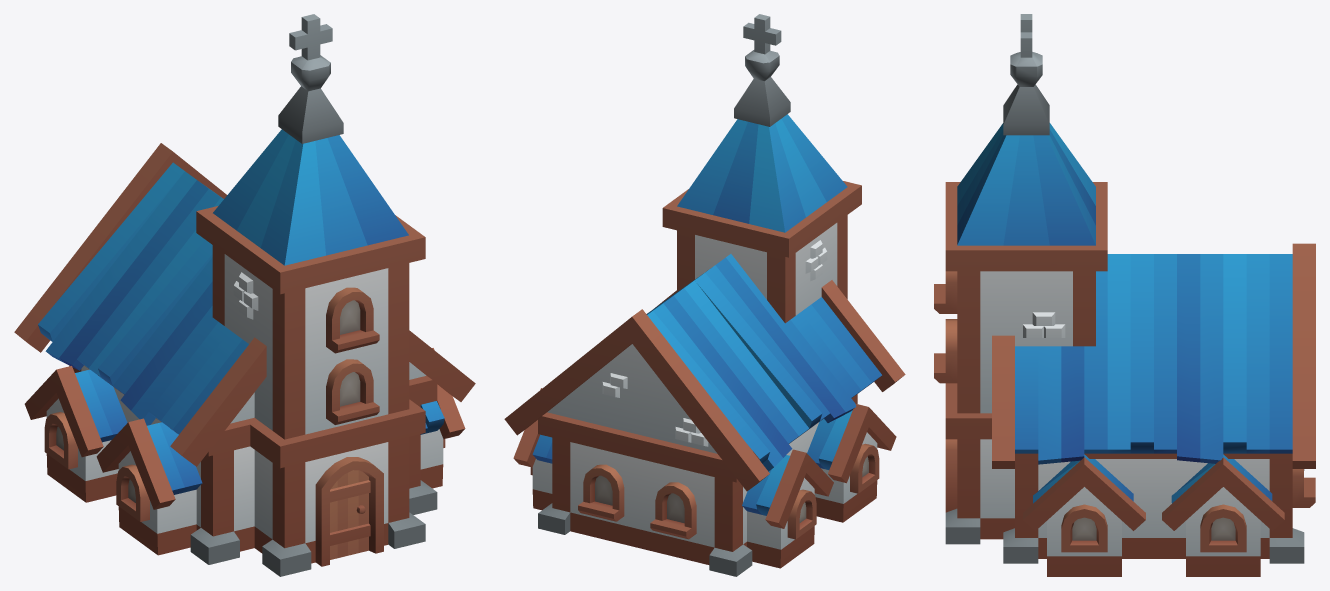
The model's file is church.glb.
The picture shows the model from 3 angles, left to right: view 1: azimuth 30°, elevation 25°; view 2: azimuth 150°, elevation 25°; view 3: azimuth 270°, elevation 25°; orthographic projection. The views are drawn at different scales.
Visible parts, largest first — view 1: building_church_blue; view 2: building_church_blue; view 3: building_church_blue.
Part boxes in pixels (<box>): building_church_blue: <box>14,14,475,576</box>; building_church_blue: <box>504,14,905,576</box>; building_church_blue: <box>934,14,1315,576</box>.
Size of the model in its own units: 1.03 by 1.65 by 1.16.
Materials: 1 (1 with a texture image).
